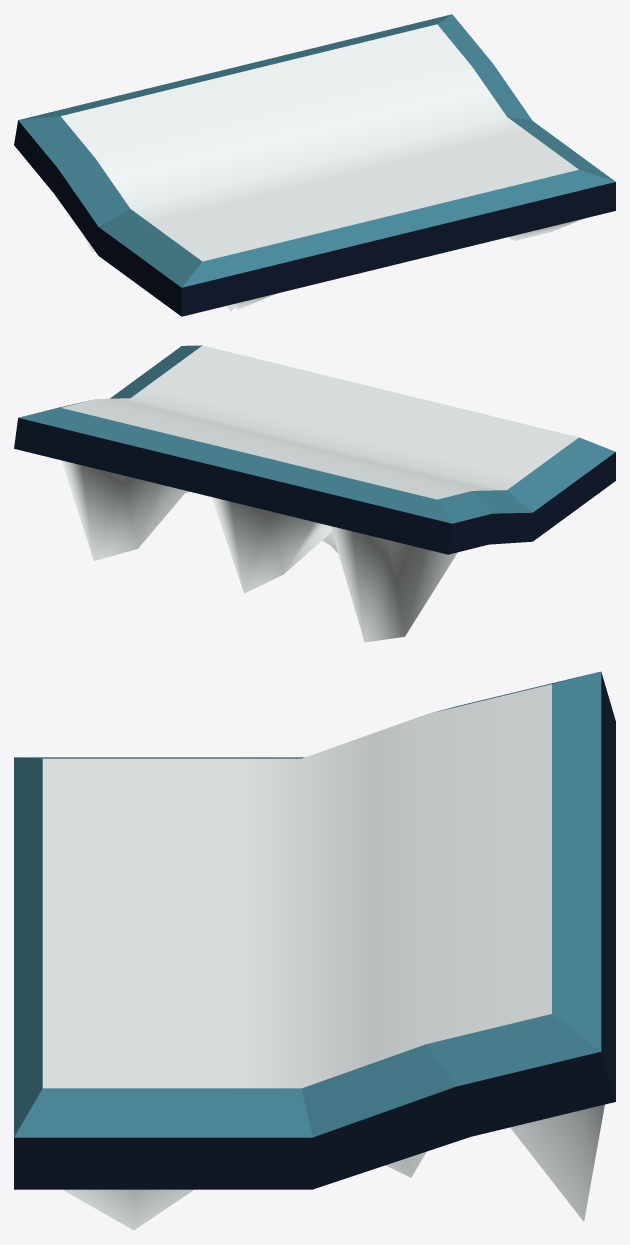
Rendered from smallPlatform.fbx.
The picture shows the model from 3 angles, top to bottom: view 1: azimuth 30°, elevation 25°; view 2: azimuth 150°, elevation 25°; view 3: azimuth 270°, elevation 25°; orthographic projection. The views are drawn at different scales.
Visible parts, largest first — view 1: pCube1; view 2: pCube1; view 3: pCube1.
Boxes of the visible parts, bbox=[...] form: pCube1: bbox=[14, 14, 615, 316]; pCube1: bbox=[14, 345, 615, 642]; pCube1: bbox=[14, 671, 615, 1230].
Size of the model in its own units: 19.78 by 7.76 by 13.23.
1 material, 1 textured.
